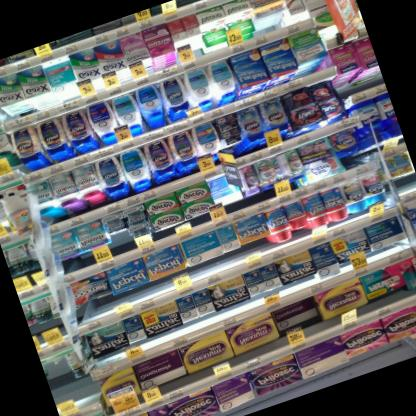empty_space: (42, 356, 79, 404)
